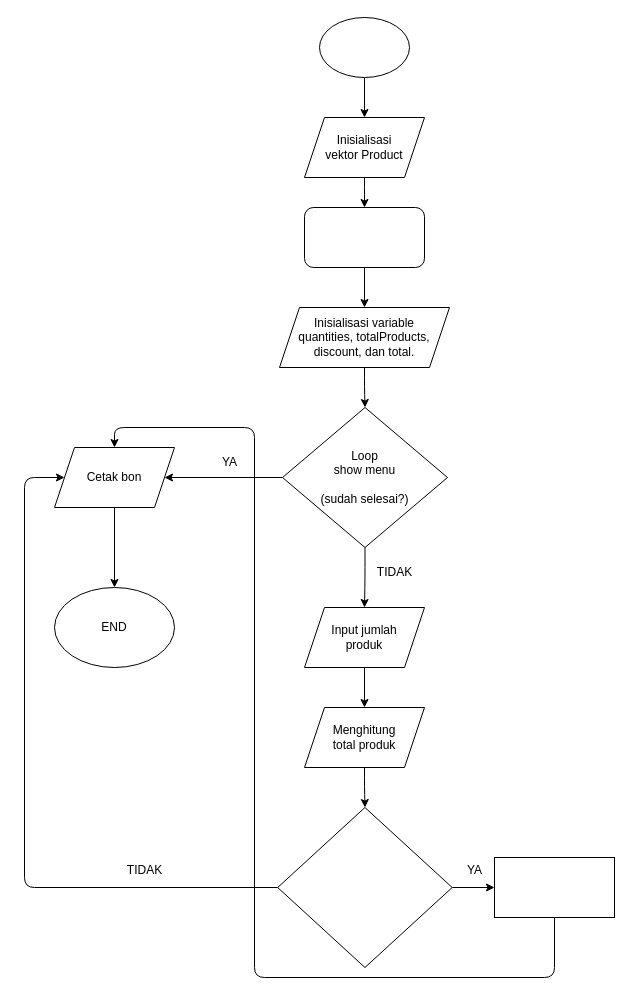
The diagram is 632 pixels wide and 1003 high, and some of its shapes have lost their labels. The centre of each missing label's shape, as x and y in pixels:
"Mengecek diskon apakah produk > 3 ?" belongs at [364,887].
"Proses diskon 10%" belongs at [554,887].
"Proses Penjualan" belongs at [364,237].
"START" belongs at [364,47].
